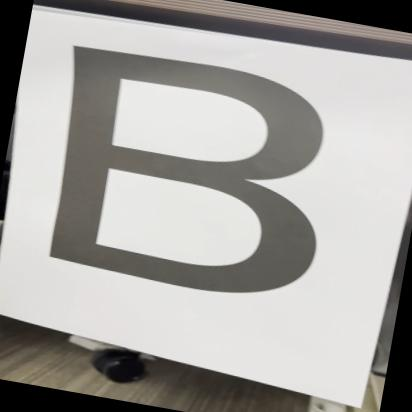seat: (11, 32, 388, 336)
